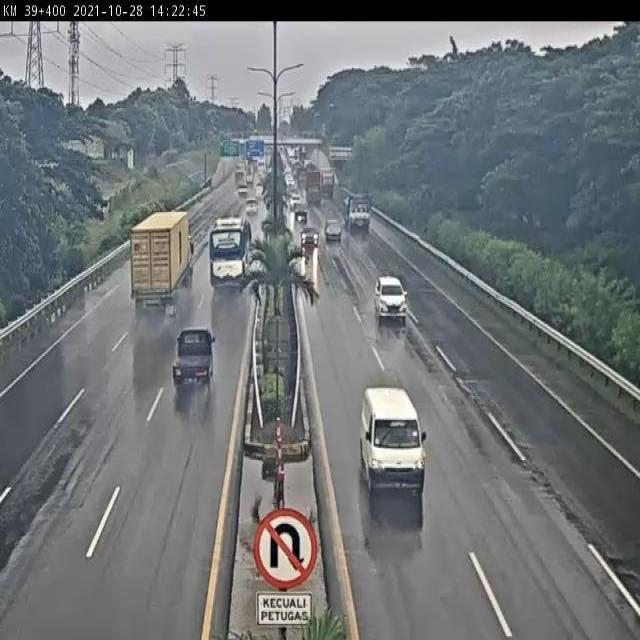Bus: (206, 215, 254, 290), (256, 159, 266, 174)
Car: (374, 277, 407, 321), (299, 226, 320, 247), (324, 219, 343, 240), (244, 198, 259, 216), (290, 193, 302, 208), (286, 179, 296, 189)
Truck: (129, 210, 194, 316), (171, 327, 217, 388), (342, 191, 373, 232), (305, 169, 322, 208), (322, 167, 336, 197), (296, 167, 306, 186), (292, 160, 301, 174), (246, 174, 253, 184)
Van: (357, 387, 429, 499)
